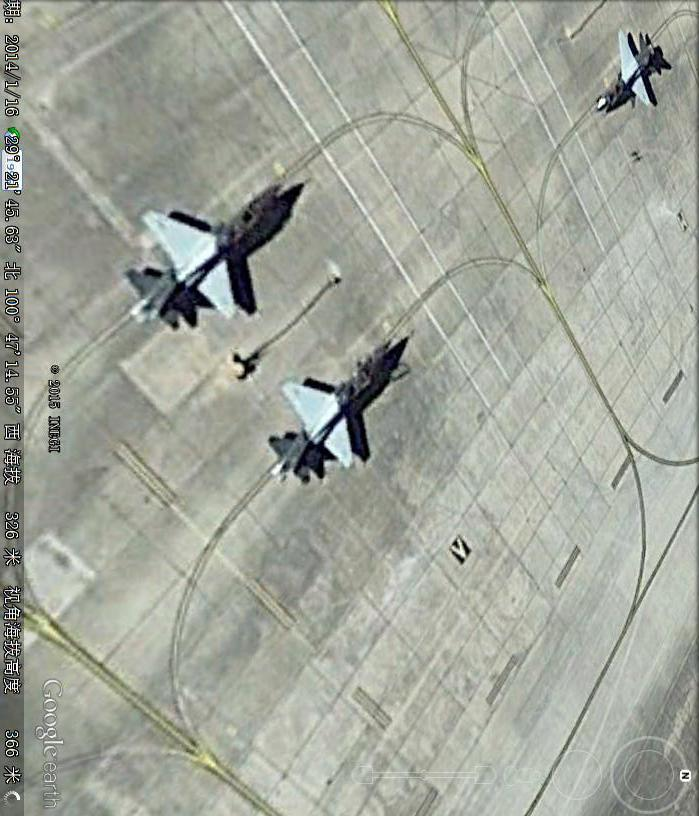plane: (123, 170, 290, 338), (266, 331, 401, 486), (593, 30, 669, 120)
